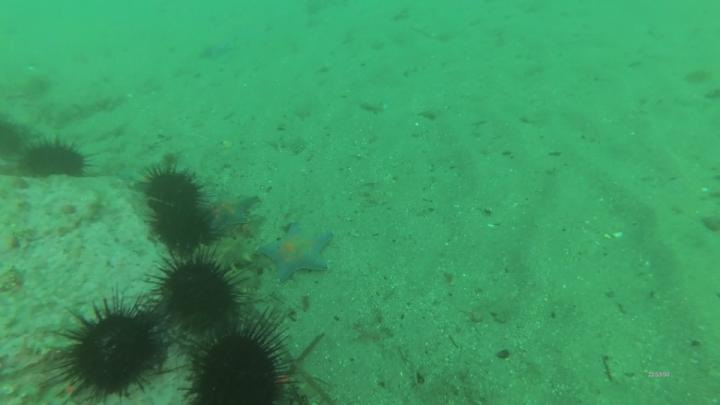echinus: (65, 312, 159, 391), (189, 336, 287, 405), (164, 255, 237, 328), (154, 206, 209, 253), (141, 167, 203, 206), (21, 146, 88, 180)
starfish: (258, 223, 332, 281), (211, 189, 256, 230)
